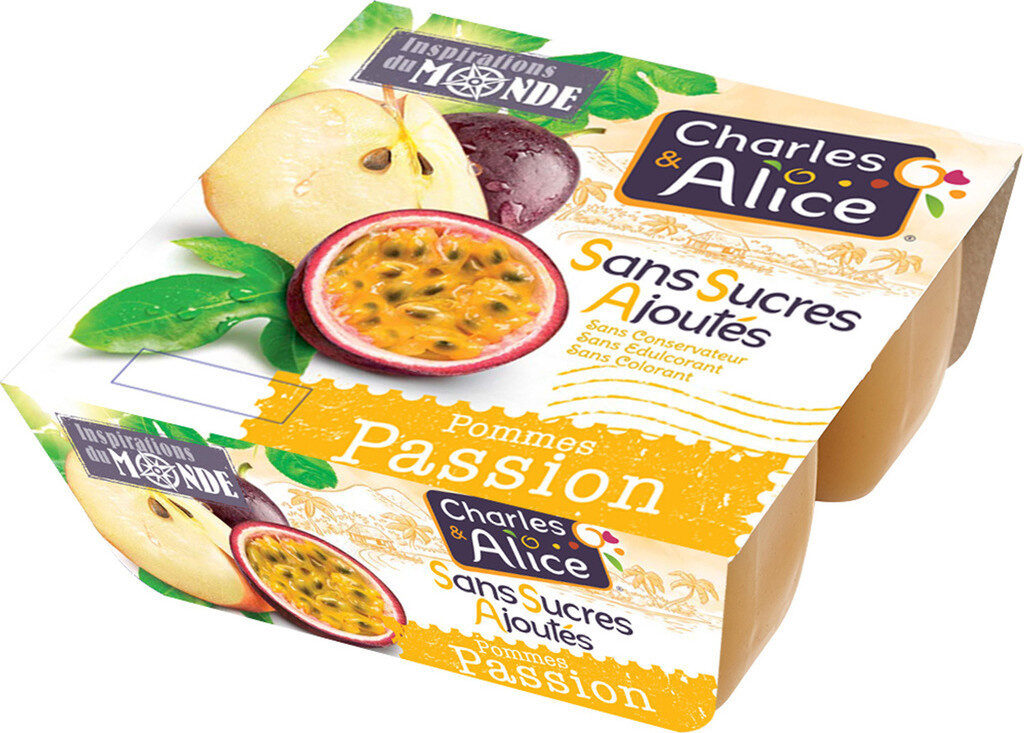Pommes - Passion: (51, 37, 973, 696)
